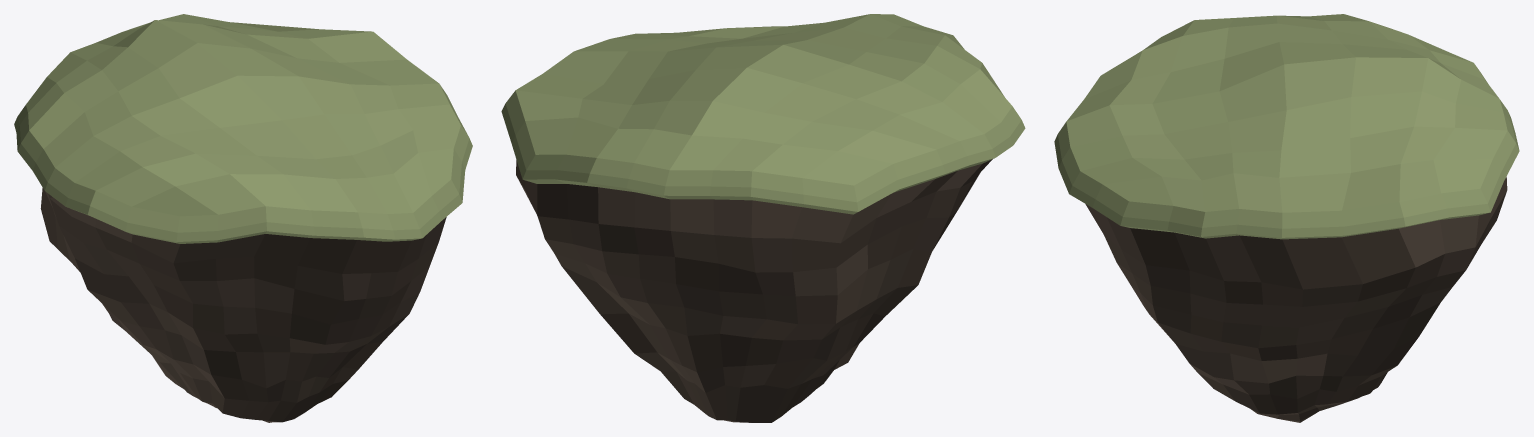
Rendered from floating island.fbx.
The picture shows the model from 3 angles, left to right: view 1: azimuth 30°, elevation 25°; view 2: azimuth 150°, elevation 25°; view 3: azimuth 270°, elevation 25°; orthographic projection. The views are drawn at different scales.
Visible parts, largest first — view 1: pCube1; view 2: pCube1; view 3: pCube1.
Boxes of the visible parts, <box> form: pCube1: <box>14,14,472,422</box>; pCube1: <box>501,14,1025,422</box>; pCube1: <box>1054,14,1519,422</box>.
Bounding box in the file's own units: 42.16 × 35.49 × 43.1.
